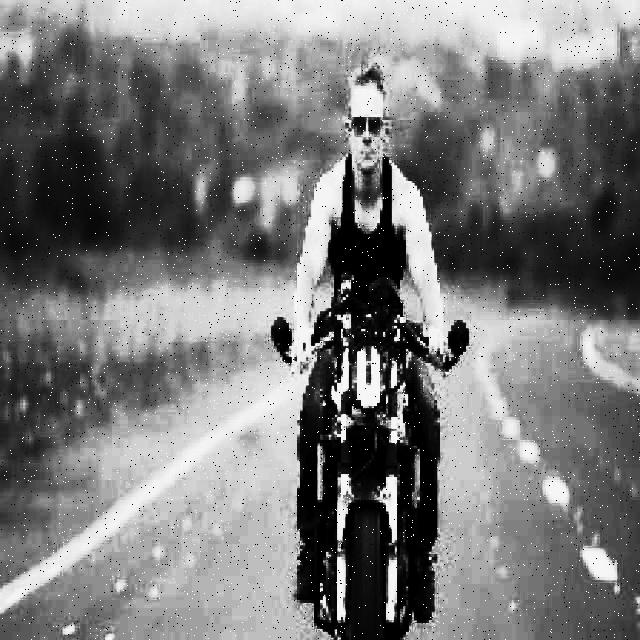Bike: (325, 285, 419, 639)
